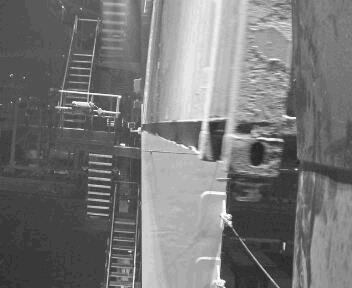twist_lock_1: (223, 168, 277, 211)
